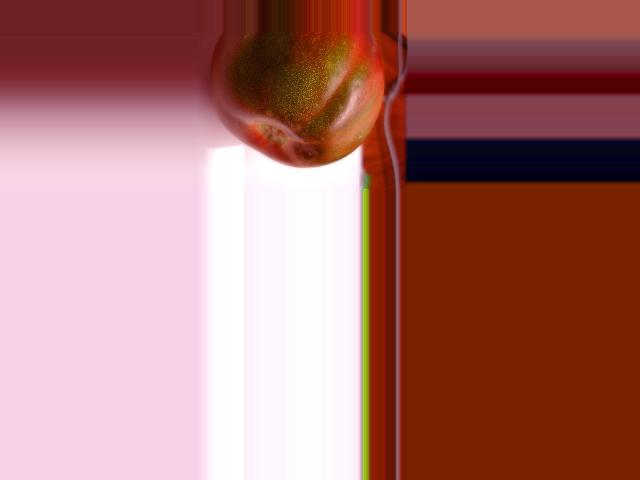tomato: (211, 31, 385, 167)
